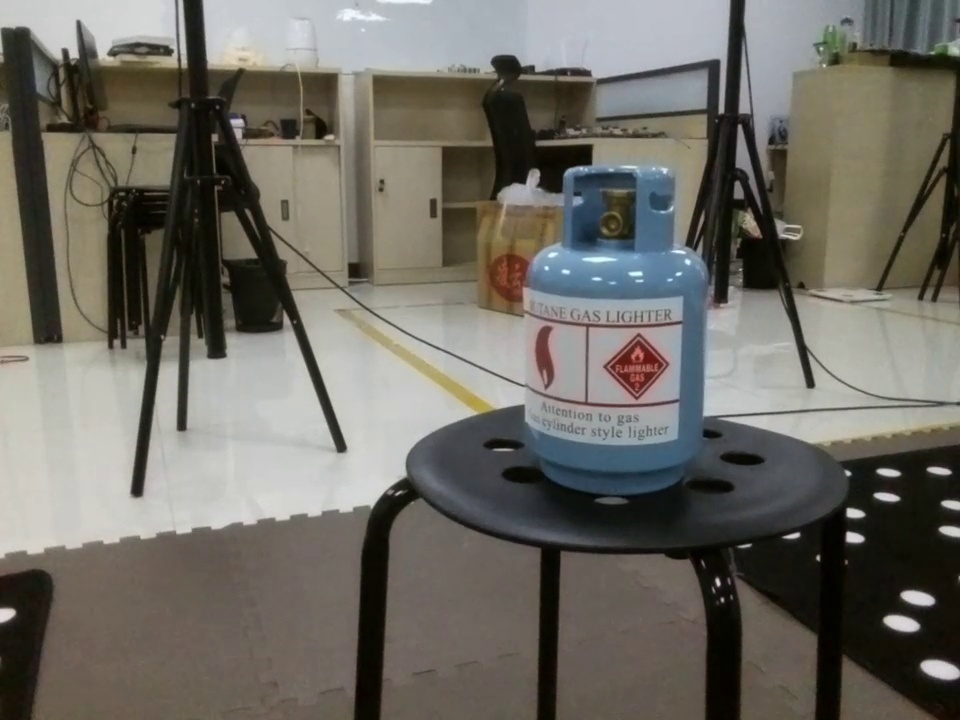gas tank: (524, 160, 708, 500)
